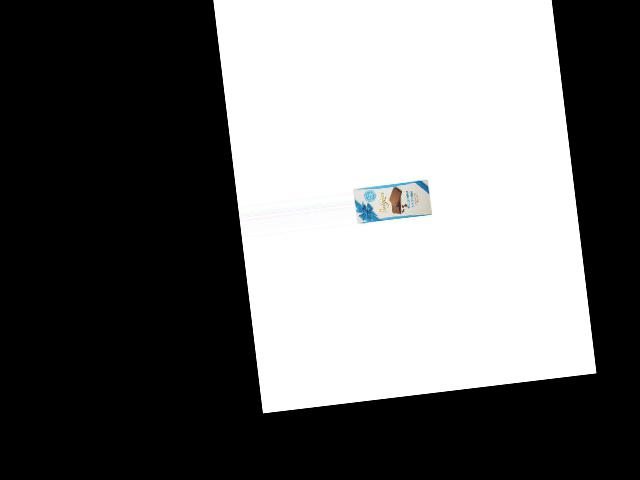chocolate: (352, 176, 434, 229)
